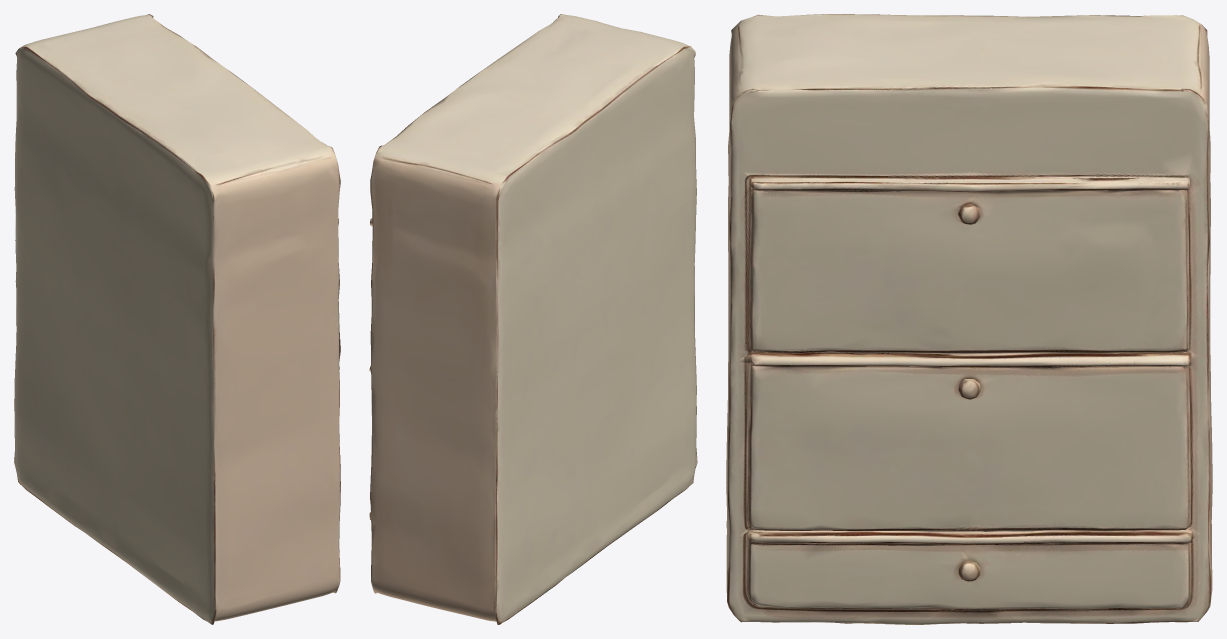
File: shoe_cabinet.glb
The picture shows the model from 3 angles, left to right: view 1: azimuth 30°, elevation 25°; view 2: azimuth 150°, elevation 25°; view 3: azimuth 270°, elevation 25°; orthographic projection. The views are drawn at different scales.
Visible parts, largest first — view 1: tripo_node_17a72fa7-0656-407c-b04a-e3bb22011dad; view 2: tripo_node_17a72fa7-0656-407c-b04a-e3bb22011dad; view 3: tripo_node_17a72fa7-0656-407c-b04a-e3bb22011dad.
Boxes of the visible parts, bbox=[...] form: tripo_node_17a72fa7-0656-407c-b04a-e3bb22011dad: bbox=[14, 14, 340, 624]; tripo_node_17a72fa7-0656-407c-b04a-e3bb22011dad: bbox=[369, 14, 697, 624]; tripo_node_17a72fa7-0656-407c-b04a-e3bb22011dad: bbox=[726, 14, 1212, 624].
Size of the model in its own units: 0.3459 by 1 by 0.8141.
1 material, 1 textured.
